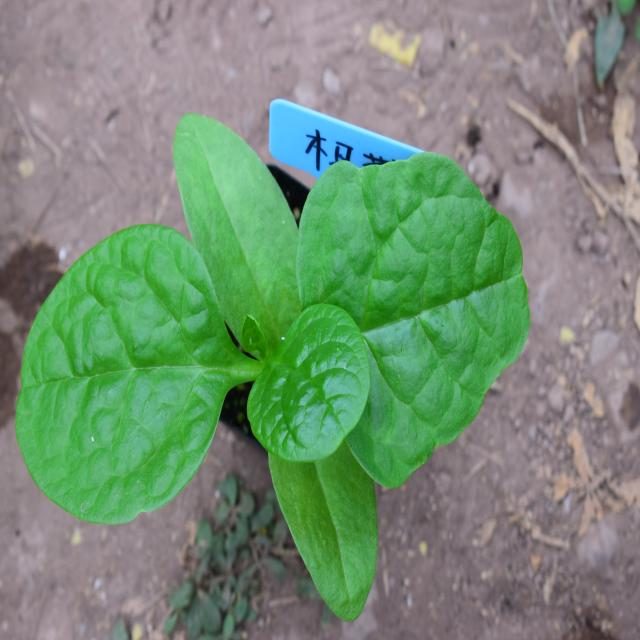Ceylon spinach: (22, 129, 531, 585)
